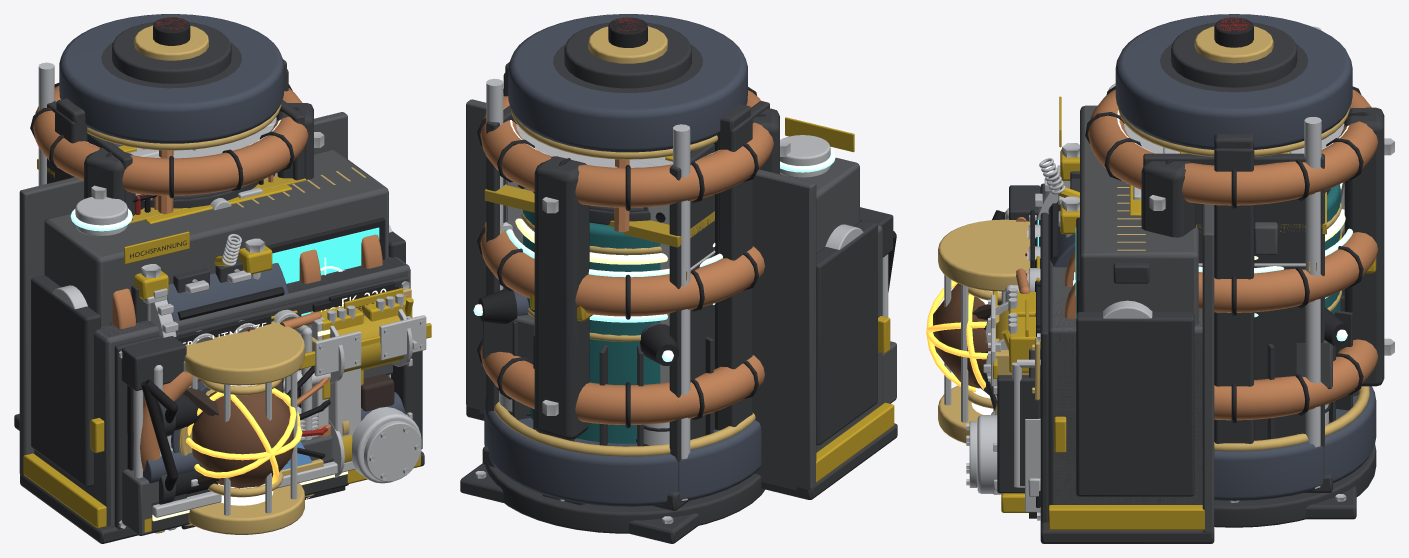
File: Schiffsmodule.c1052eede0.glb
3 views of the same model, side by side, from view 1: azimuth 30°, elevation 25°; view 2: azimuth 150°, elevation 25°; view 3: azimuth 270°, elevation 25° (orthographic). The views are drawn at different scales.
Visible parts, largest first — view 1: sw_zielrechner, sa_bollwerk, sw_gauss, sa_phasen, sy_herz, sy_orakel, sy_kompressor, sy_linse, sy_kuehler, sy_prisma, sw_zwilling, sw_lanze (+13 smaller); view 2: sa_bollwerk, sa_phasen, sa_platten, sw_rotation, sw_gauss, sa_kondensator, sy_netz, sa_waben, st_fusion, sw_zielrechner, sw_lanze, st_wirbel (+10 smaller); view 3: sa_bollwerk, sa_phasen, sw_gauss, sw_zielrechner, sy_herz, sa_platten, sa_waben, sy_antenne, sy_kompressor, sy_orakel, sy_prisma, sw_lanze (+15 smaller).
Part boxes in pixels (x1,y1,x2,y2): sw_zielrechner: [44, 150, 388, 326]; sa_bollwerk: [59, 14, 324, 215]; sw_gauss: [24, 224, 423, 533]; sa_phasen: [30, 22, 308, 198]; sy_herz: [91, 288, 411, 534]; sy_orakel: [91, 257, 406, 525]; sy_kompressor: [93, 256, 431, 532]; sy_linse: [101, 265, 410, 529]; sy_kuehler: [92, 275, 421, 533]; sy_prisma: [34, 257, 412, 527]; sw_zwilling: [25, 116, 347, 528]; sw_lanze: [20, 112, 424, 542]; sa_bollwerk: [484, 14, 790, 533]; sa_phasen: [477, 22, 773, 428]; sa_platten: [482, 101, 769, 531]; sw_rotation: [466, 102, 812, 498]; sw_gauss: [471, 117, 896, 461]; sa_kondensator: [485, 191, 752, 532]; sy_netz: [479, 212, 888, 490]; sa_waben: [490, 62, 764, 532]; st_fusion: [486, 18, 702, 500]; sw_zielrechner: [780, 135, 859, 253]; sw_lanze: [466, 99, 897, 498]; st_wirbel: [473, 19, 678, 365]; sa_bollwerk: [1115, 14, 1394, 527]; sa_phasen: [1085, 22, 1378, 423]; sw_gauss: [1041, 96, 1203, 531]; sw_zielrechner: [1058, 83, 1198, 325]; sy_herz: [938, 175, 1202, 522]; sa_platten: [1133, 147, 1375, 527]; sa_waben: [1214, 133, 1364, 526]; sy_antenne: [988, 180, 1202, 522]; sy_kompressor: [992, 175, 1202, 521]; sy_orakel: [926, 213, 1201, 522]; sy_prisma: [993, 174, 1202, 522]; sw_lanze: [1041, 143, 1214, 542].
Bounding box in the file's own units: 1 × 1.24 × 1.19.
